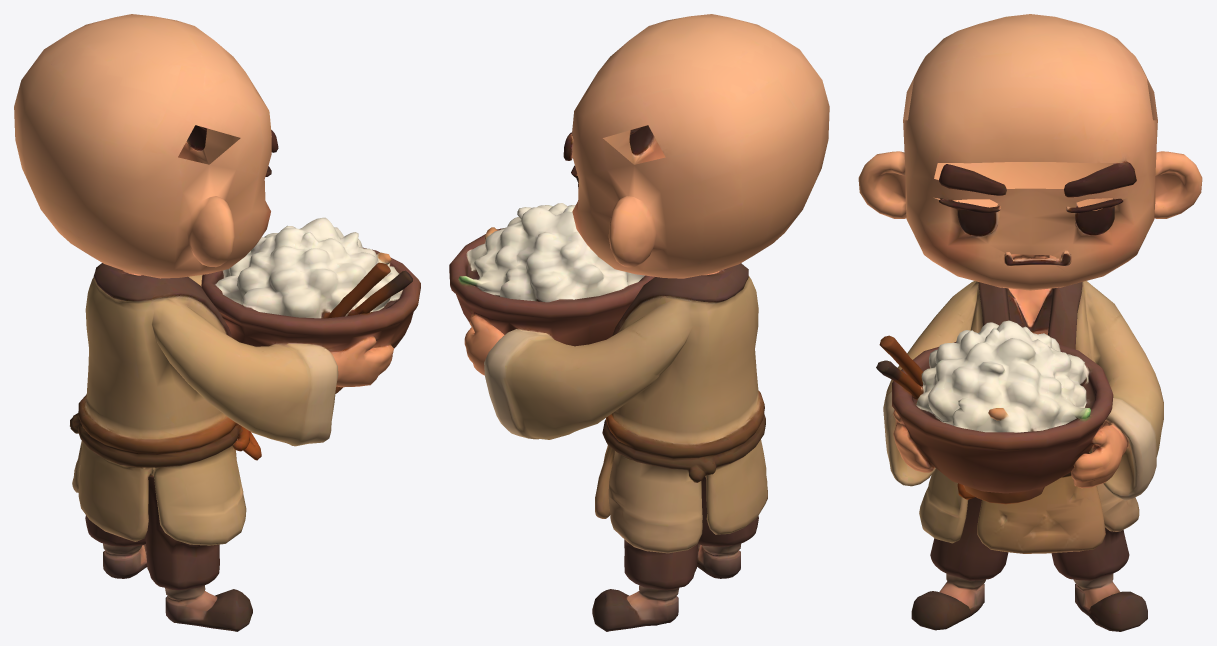
File: wuchang.glb
3 renders of one model, left to right at view 1: azimuth 30°, elevation 25°; view 2: azimuth 150°, elevation 25°; view 3: azimuth 270°, elevation 25°, orthographic.
Visible parts, largest first — view 1: tripo_node_2a9bb0ff-337e-4279-92d5-544637c0ee35; view 2: tripo_node_2a9bb0ff-337e-4279-92d5-544637c0ee35; view 3: tripo_node_2a9bb0ff-337e-4279-92d5-544637c0ee35.
Boxes of the visible parts, left/top/right/bottom form: tripo_node_2a9bb0ff-337e-4279-92d5-544637c0ee35: left=14, top=14, right=420, bottom=631; tripo_node_2a9bb0ff-337e-4279-92d5-544637c0ee35: left=449, top=14, right=829, bottom=631; tripo_node_2a9bb0ff-337e-4279-92d5-544637c0ee35: left=858, top=14, right=1202, bottom=631.
Size of the model in its own units: 0.6497 by 1 by 0.544.
1 material, 1 textured.
